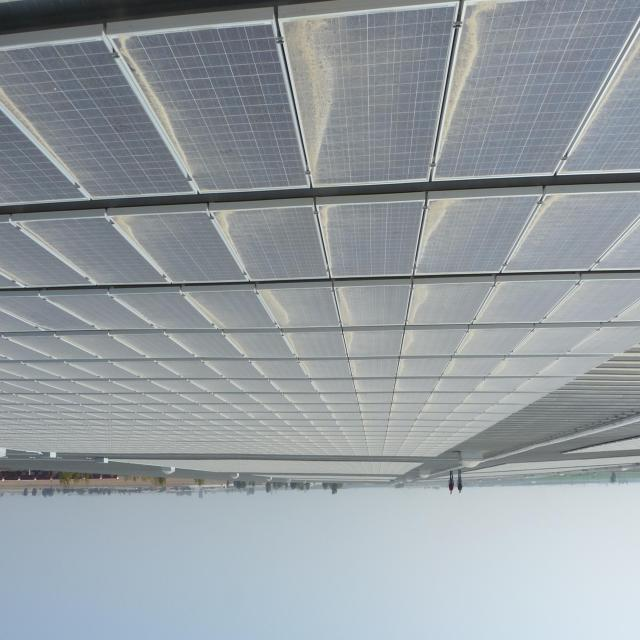soiled: (0, 0, 640, 201), (4, 180, 640, 288), (3, 268, 640, 334), (284, 332, 624, 412)
